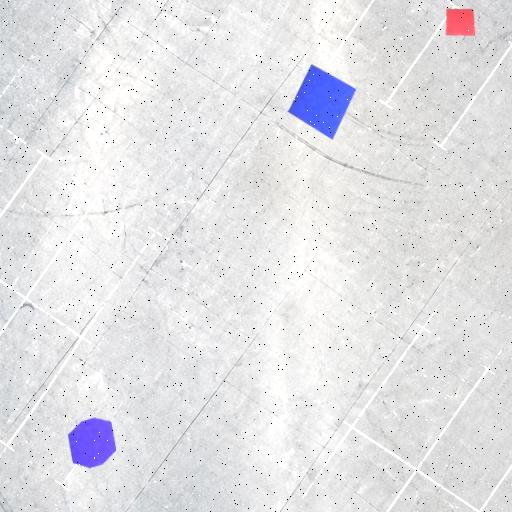BLUE_SQUARE: (287, 63, 357, 141)
RED_SQUARE: (446, 8, 475, 37)
